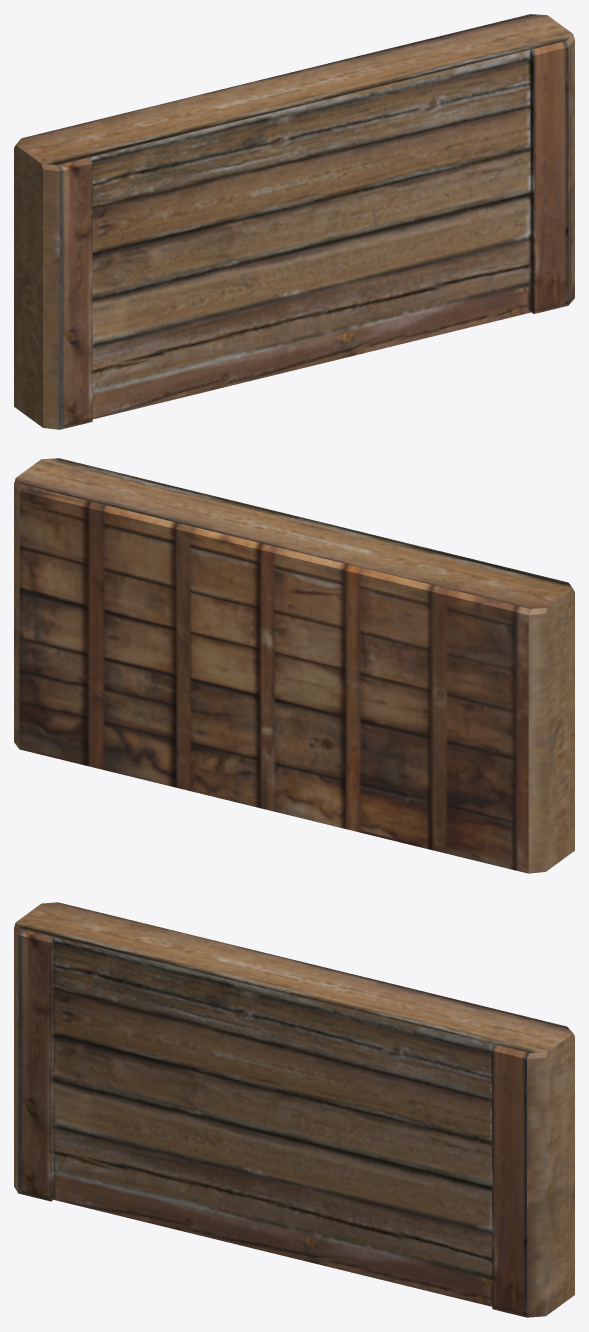
The model's file is Cabin_Wall.obj.
3 views of the same model, one above another, from view 1: azimuth 30°, elevation 25°; view 2: azimuth 150°, elevation 25°; view 3: azimuth 330°, elevation 25° (orthographic).
Parts seen in each view (by area): view 1: LowPoly_Cube; view 2: LowPoly_Cube; view 3: LowPoly_Cube.
Boxes of the visible parts, bbox=[...] form: LowPoly_Cube: bbox=[14, 14, 574, 429]; LowPoly_Cube: bbox=[14, 458, 574, 873]; LowPoly_Cube: bbox=[14, 902, 574, 1317].
Bounding box in the file's own units: 2.96 × 1.4 × 0.3999.
